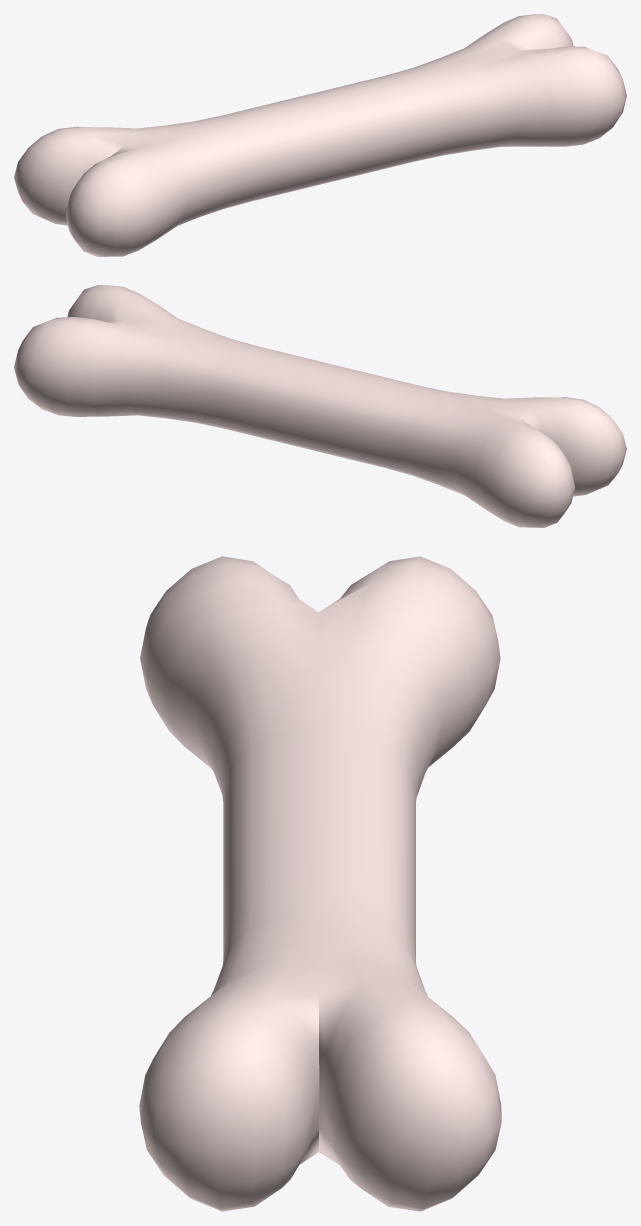
File: Store_11_Bone_1.glb
3 renders of one model, top to bottom at view 1: azimuth 30°, elevation 25°; view 2: azimuth 150°, elevation 25°; view 3: azimuth 270°, elevation 25°, orthographic. The views are drawn at different scales.
Visible parts, largest first — view 1: Store_11_Bone_1; view 2: Store_11_Bone_1; view 3: Store_11_Bone_1.
Boxes of the visible parts, box(x1,y1,x2,y2) form: Store_11_Bone_1: box(14, 14, 626, 256); Store_11_Bone_1: box(14, 285, 626, 527); Store_11_Bone_1: box(139, 556, 501, 1211).
Bounding box in the file's own units: 1.77 × 0.2852 × 0.5022.
1 material, 1 textured.
